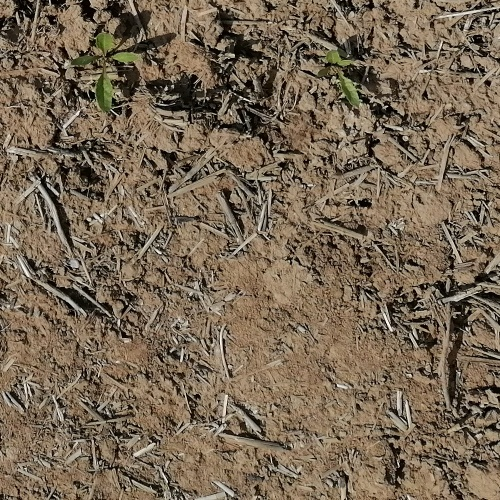beet: (75, 34, 142, 111), (319, 48, 360, 108)
